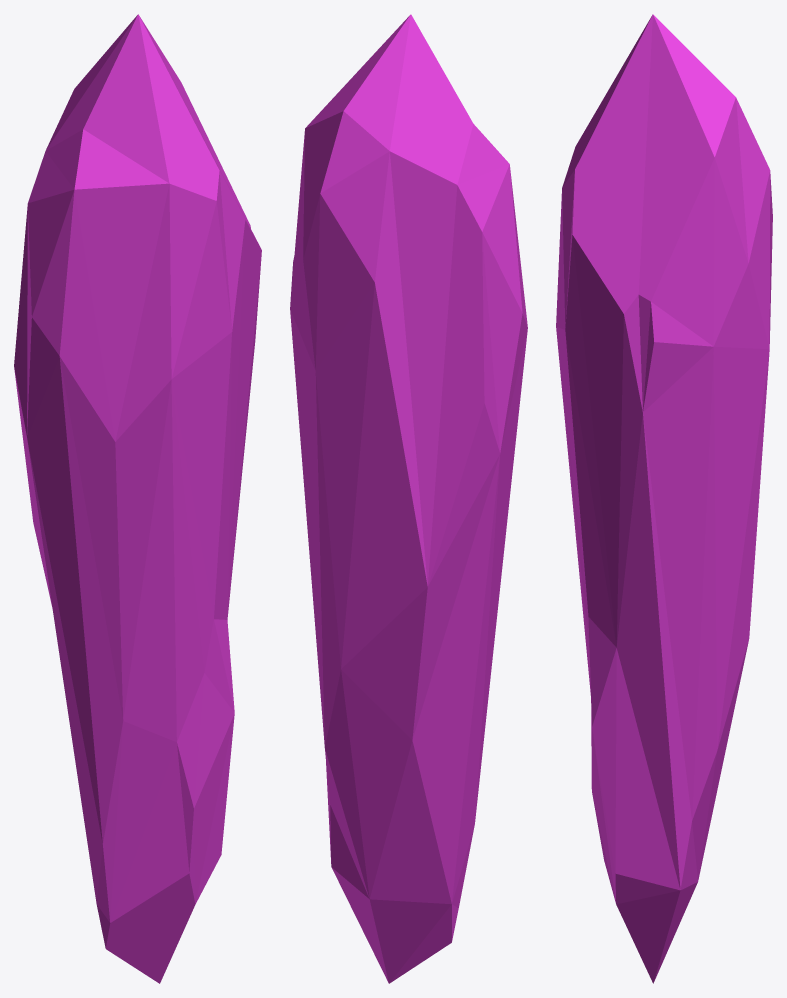
Rendered from sm_Crystal03.fbx.
3 renders of one model, left to right at view 1: azimuth 30°, elevation 25°; view 2: azimuth 150°, elevation 25°; view 3: azimuth 270°, elevation 25°, orthographic.
Visible parts, largest first — view 1: Crystal03; view 2: Crystal03; view 3: Crystal03.
Boxes of the visible parts, <box> form: Crystal03: <box>14,14,261,983</box>; Crystal03: <box>290,14,527,983</box>; Crystal03: <box>556,14,772,983</box>.
Bounding box in the file's own units: 281 × 1157 × 237.
